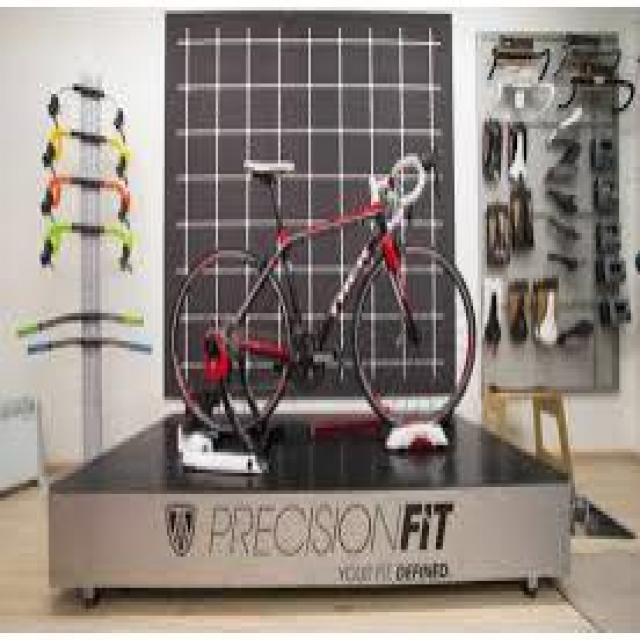bicycle: (170, 154, 474, 460)
